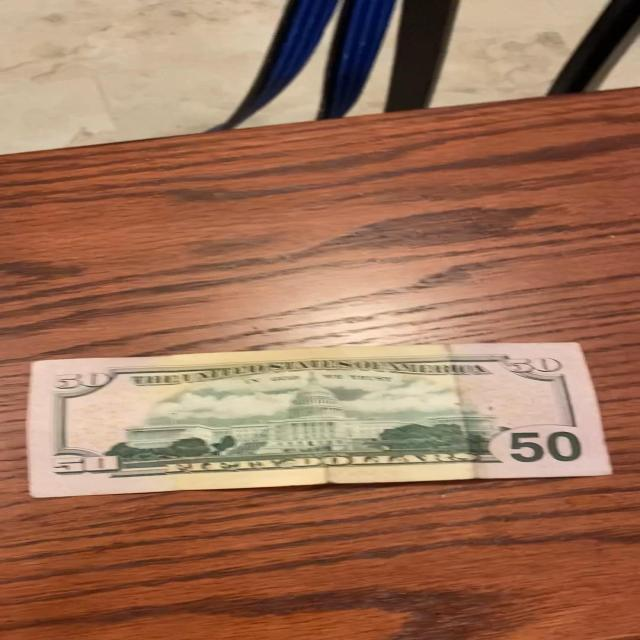50-Back: (14, 326, 617, 500)
